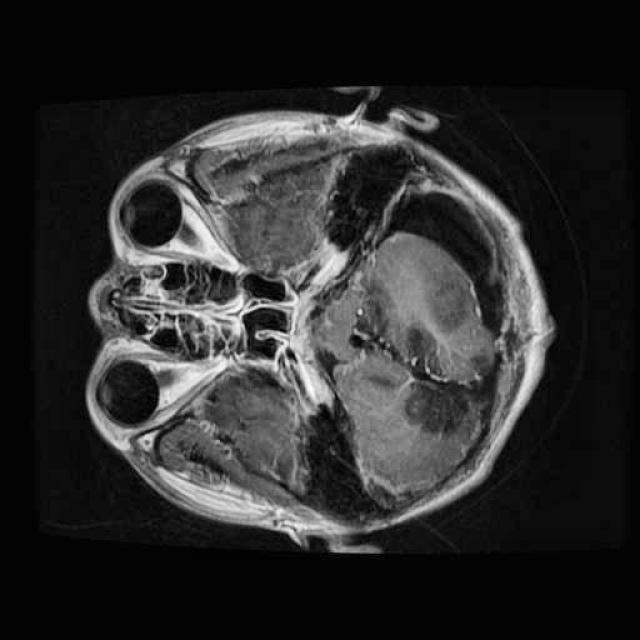Non-Tumor: (382, 312, 511, 456)
